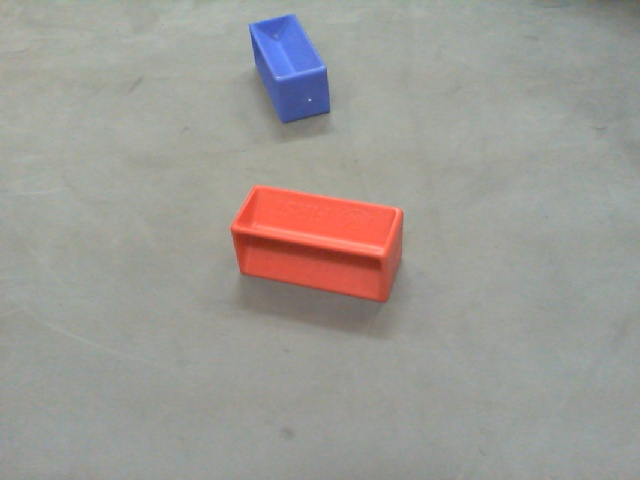BlueSample: (244, 11, 338, 126)
RedSample: (226, 182, 411, 307)
